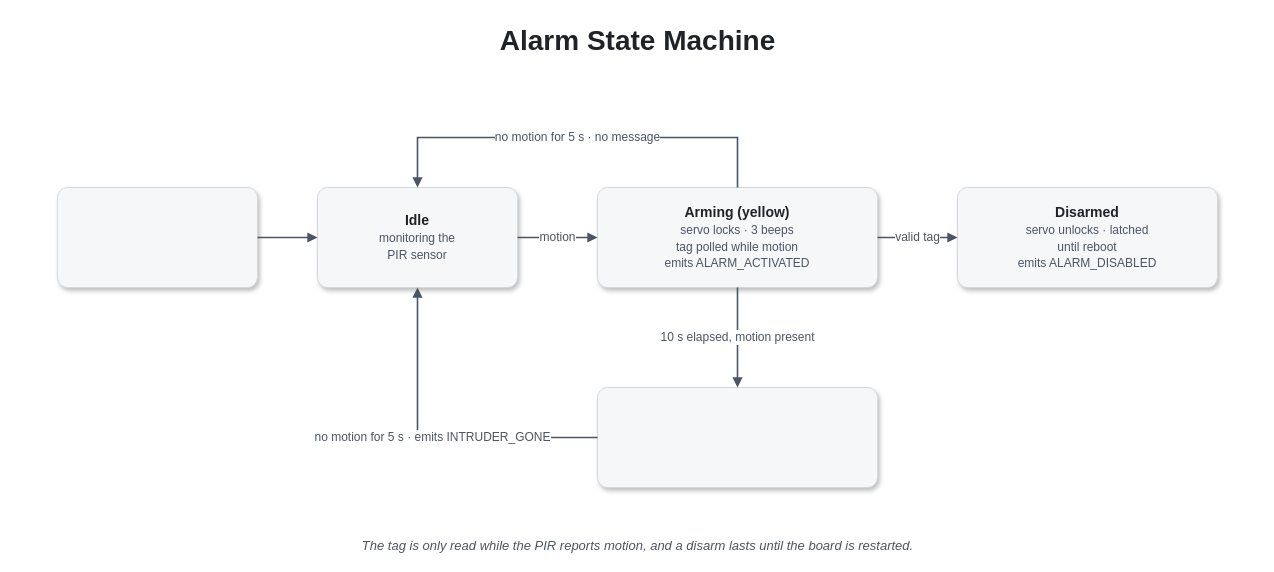
Image size: 1274x572. Some labels were removed from this diagram. The shapes that lost their labels are listed below. From the top down, each one's centre as x and y in pixels, then its label:
At (158,238): "Calibrating 50 s after power-up emits SENSOR ACTIVE".
At (738,438): "Alarm (red) continuous tone tag ignored emits INTRUDER_ALERT".
